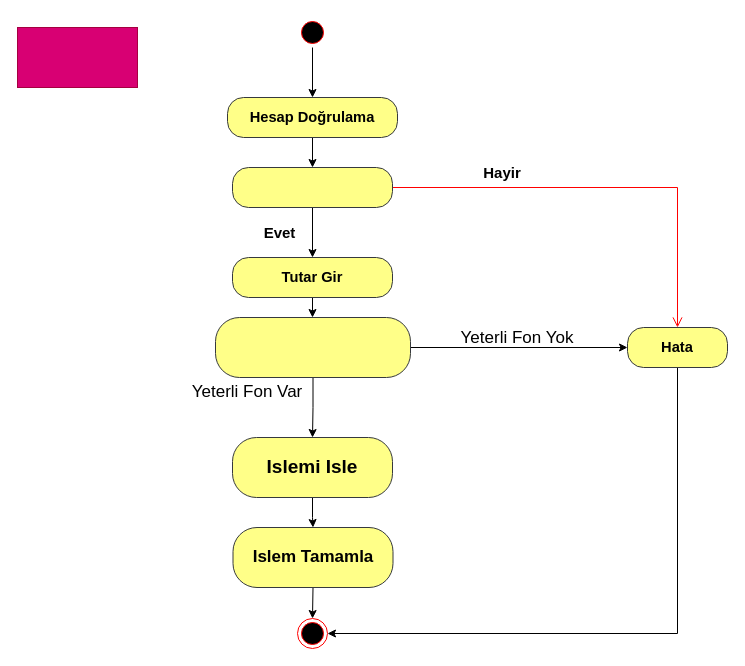
Some shapes in this 745 by 666 pixel diagram are drawn without their labels. Here are the shapes that lost their labels. From the top down, the centre of each, then its label:
the point at 77,57: Soru 2
the point at 312,187: Hesap Geçerli mi?
the point at 312,347: Teterli Fon Oldgunu Dogrula
